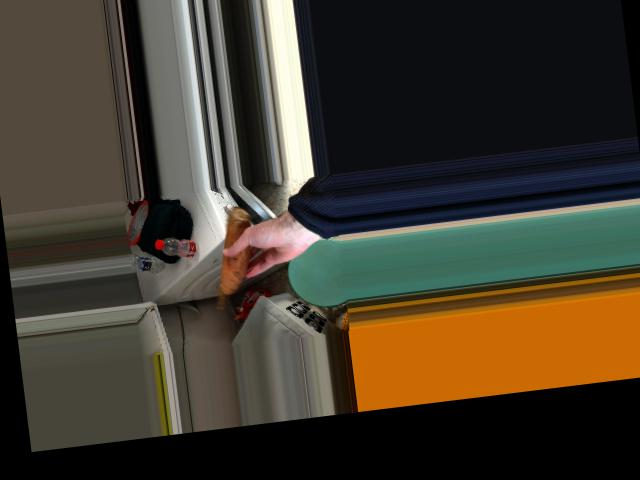sweet_potato: (202, 210, 264, 307)
